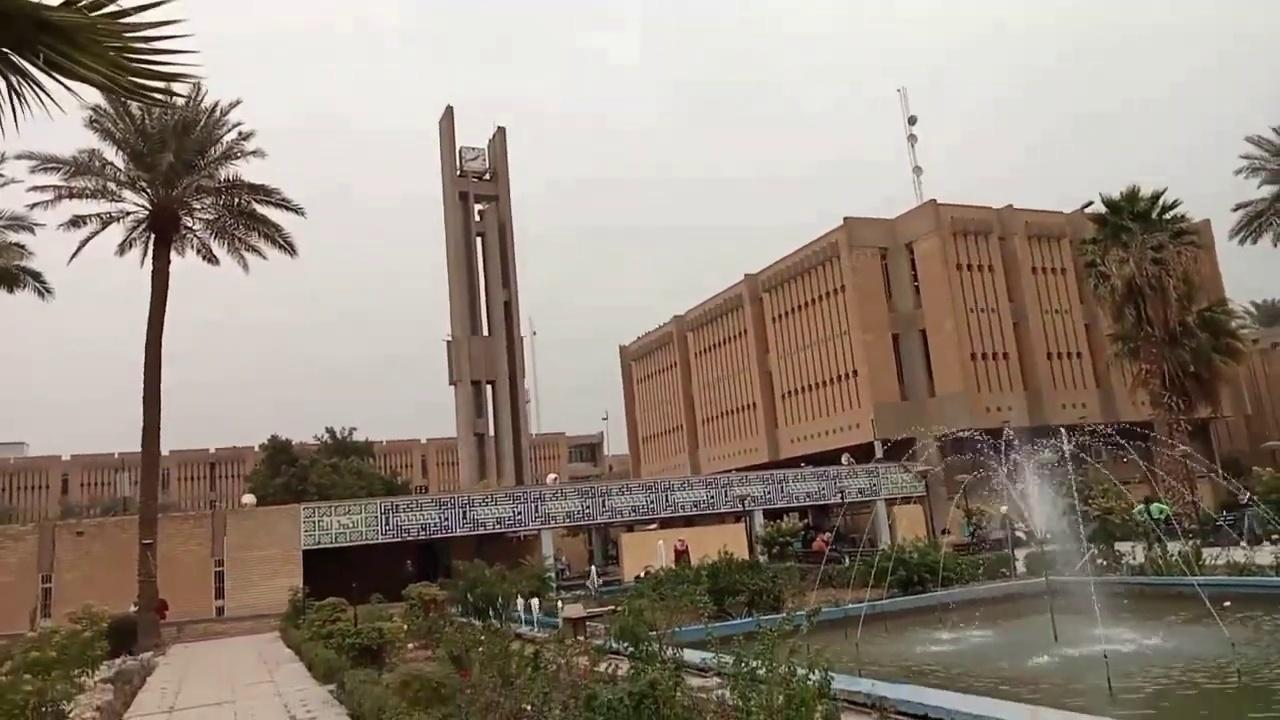fountain: (601, 419, 1278, 718), (604, 568, 1278, 718), (937, 419, 1271, 664)
person: (1131, 494, 1174, 552), (1237, 485, 1263, 548), (811, 529, 847, 565), (673, 536, 691, 569), (554, 547, 569, 581), (154, 597, 168, 621), (603, 463, 619, 480), (545, 472, 559, 485)
tree: (14, 80, 307, 650), (1073, 182, 1253, 535), (0, 0, 205, 302), (0, 0, 205, 138), (1226, 121, 1279, 472), (241, 424, 411, 505), (0, 599, 114, 718), (437, 552, 556, 626), (0, 148, 55, 302), (1226, 122, 1279, 248), (753, 514, 807, 563), (1242, 296, 1279, 328)
